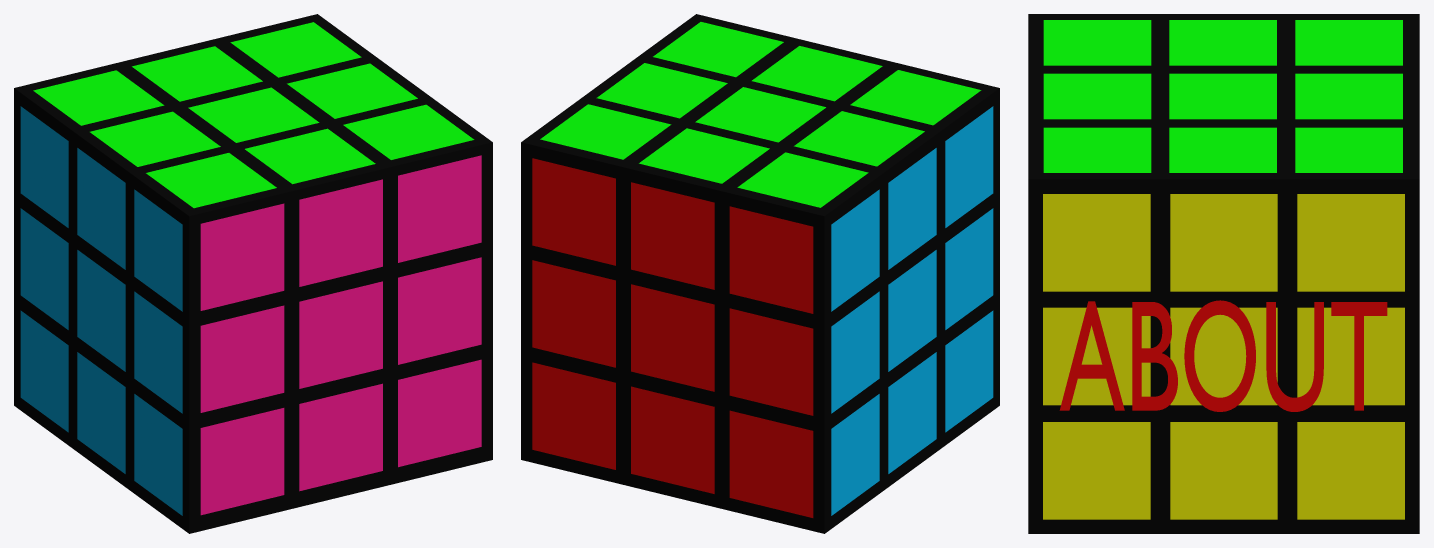
Rendered from rubiks_new.glb.
3 renders of one model, left to right at view 1: azimuth 30°, elevation 25°; view 2: azimuth 150°, elevation 25°; view 3: azimuth 270°, elevation 25°, orthographic. The views are drawn at different scales.
Parts seen in each view (by area): view 1: Cube; view 2: Cube; view 3: Cube, ABOUT ME.
Boxes of the visible parts, x1,y1,x2,y2 form: Cube: (14, 14, 492, 533); Cube: (521, 14, 999, 533); Cube: (1028, 14, 1419, 533); ABOUT ME: (1059, 300, 1387, 411).
Bounding box in the file's own units: 2.01 × 2 × 2.
